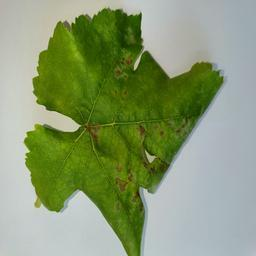Powdery-Mildew: (113, 27, 139, 93), (130, 117, 188, 138), (110, 161, 137, 205), (65, 33, 94, 72), (46, 138, 74, 168)
